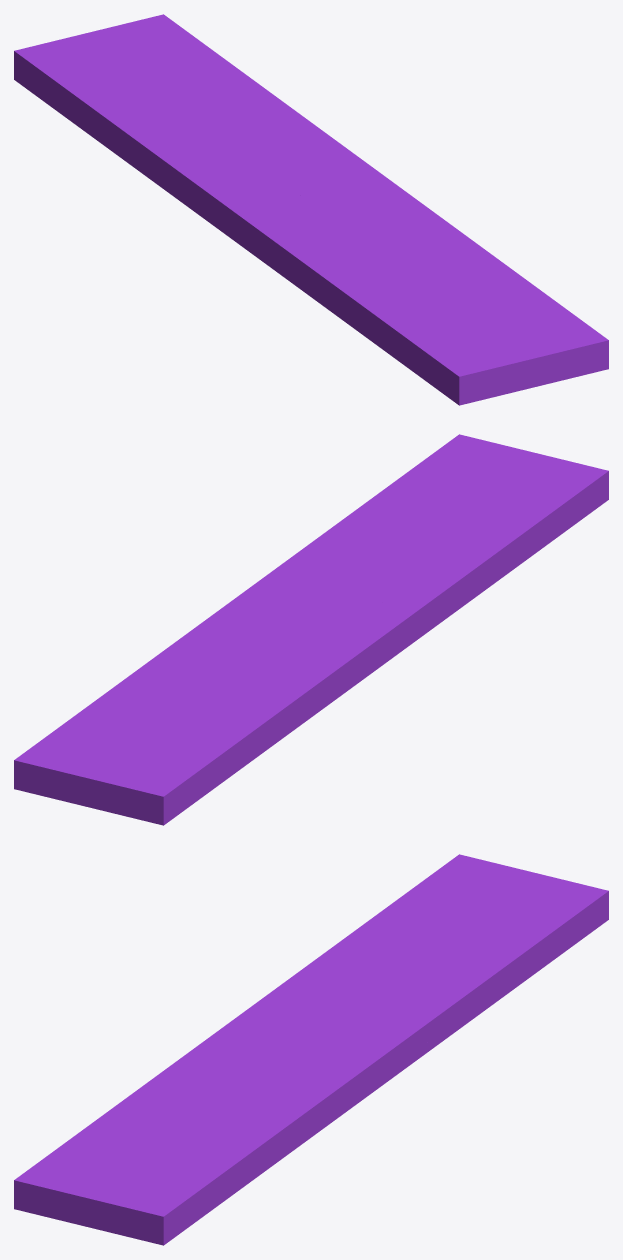
Rendered from StairsStep_128_chunks.fbx.
3 views of the same model, one above another, from view 1: azimuth 30°, elevation 25°; view 2: azimuth 150°, elevation 25°; view 3: azimuth 330°, elevation 25° (orthographic).
Parts seen in each view (by area): view 1: StairsStep_128_2, StairsStep_128_3, StairsStep_128_1, StairsStep_128_0; view 2: StairsStep_128_2, StairsStep_128_3, StairsStep_128_1, StairsStep_128_0; view 3: StairsStep_128_2, StairsStep_128_3, StairsStep_128_1, StairsStep_128_0.
Part boxes in pixels (left/top/right/bottom): StairsStep_128_2: left=290, top=185, right=608, bottom=405; StairsStep_128_3: left=156, top=14, right=396, bottom=199; StairsStep_128_1: left=14, top=16, right=168, bottom=164; StairsStep_128_0: left=98, top=112, right=311, bottom=281; StairsStep_128_2: left=247, top=434, right=608, bottom=623; StairsStep_128_3: left=14, top=590, right=320, bottom=761; StairsStep_128_1: left=14, top=696, right=280, bottom=825; StairsStep_128_0: left=248, top=593, right=442, bottom=739; StairsStep_128_2: left=14, top=1038, right=383, bottom=1245; StairsStep_128_3: left=302, top=889, right=608, bottom=1077; StairsStep_128_1: left=358, top=854, right=608, bottom=1085; StairsStep_128_0: left=181, top=916, right=374, bottom=1058.
Size of the model in its own units: 157 by 28.98 by 810.
